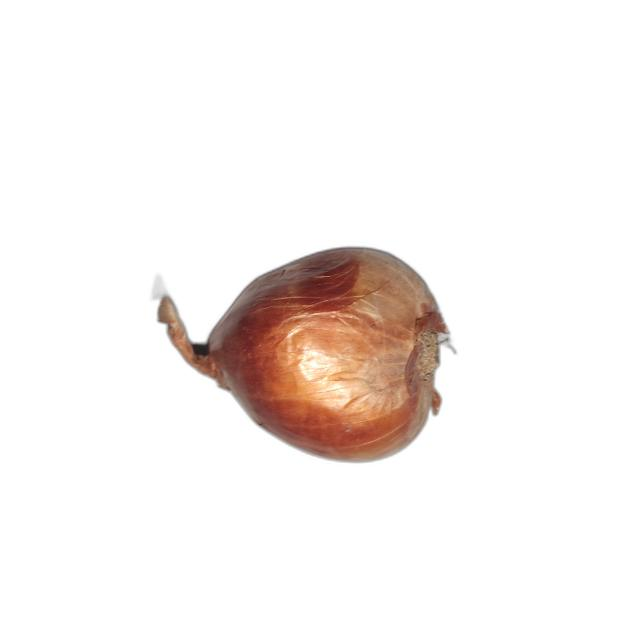onion: (157, 247, 452, 463)
